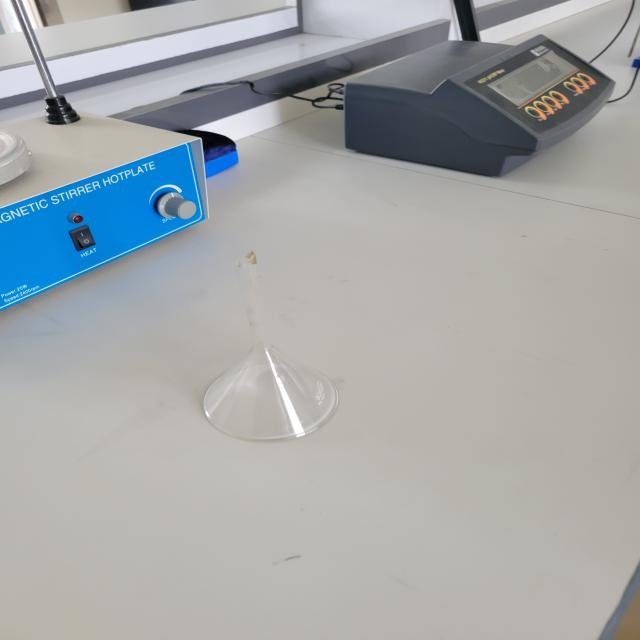Funnel: (161, 220, 367, 476)
